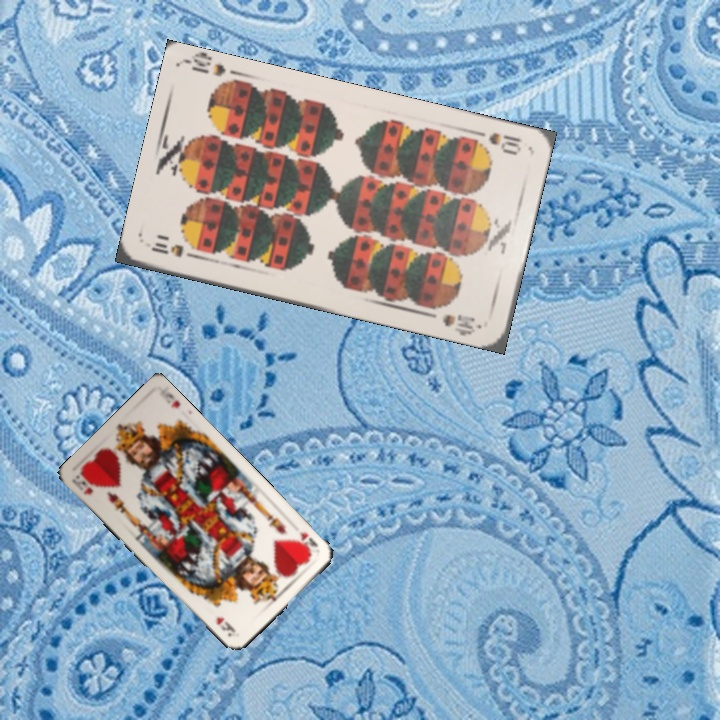HK: (293, 527, 321, 557), (68, 469, 96, 497)
S10: (467, 126, 524, 157), (147, 238, 202, 262)
